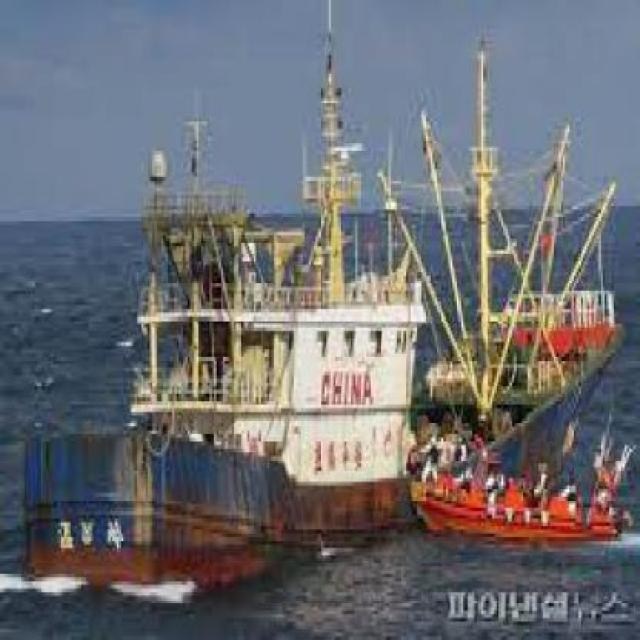fish-b: (10, 1, 439, 601)
